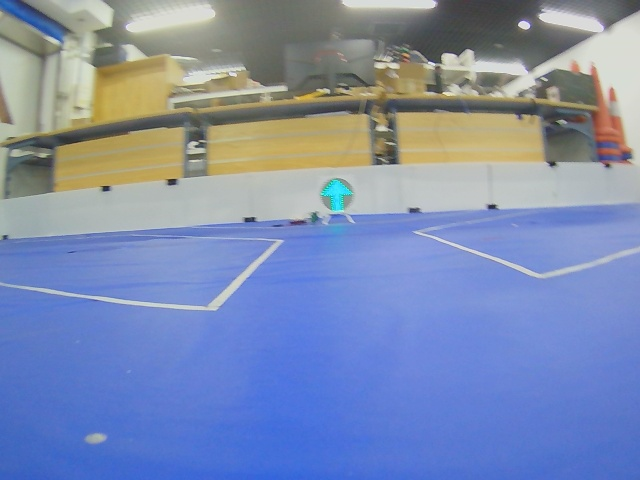straight_green: (320, 178, 354, 212)
